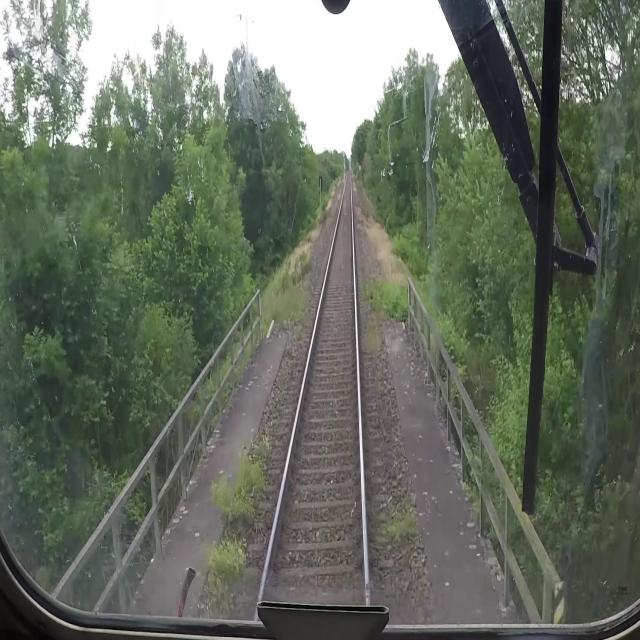rail-track: (263, 175, 364, 596)
